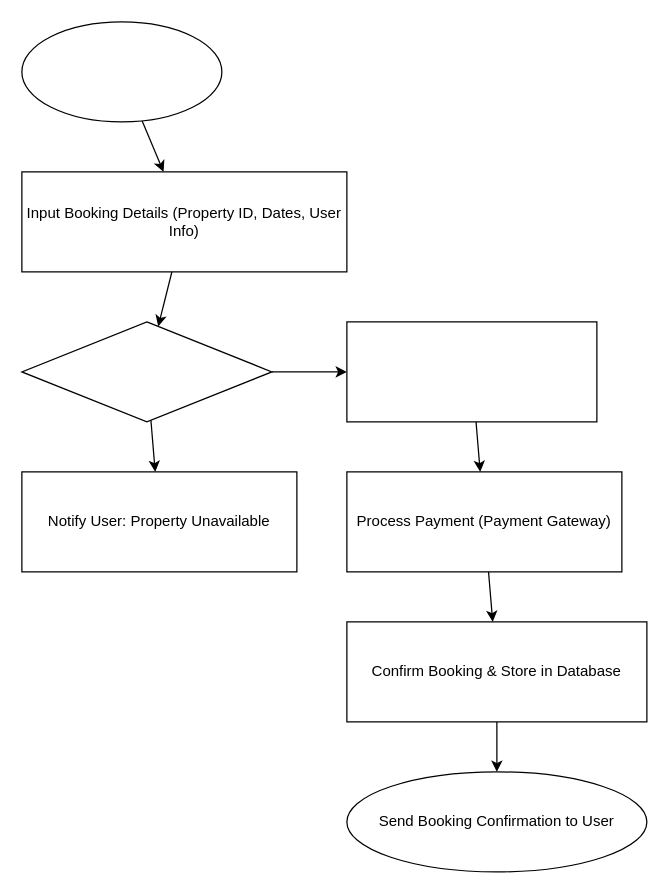
Some shapes in this 669 by 894 pixel diagram are drawn without their labels. Each missing label, with the centre of its shape:
"Backend Validates Availability" goes at (x=146, y=371).
"Proceed to Payment" goes at (x=471, y=371).
"User Initiates Booking" goes at (x=121, y=71).
